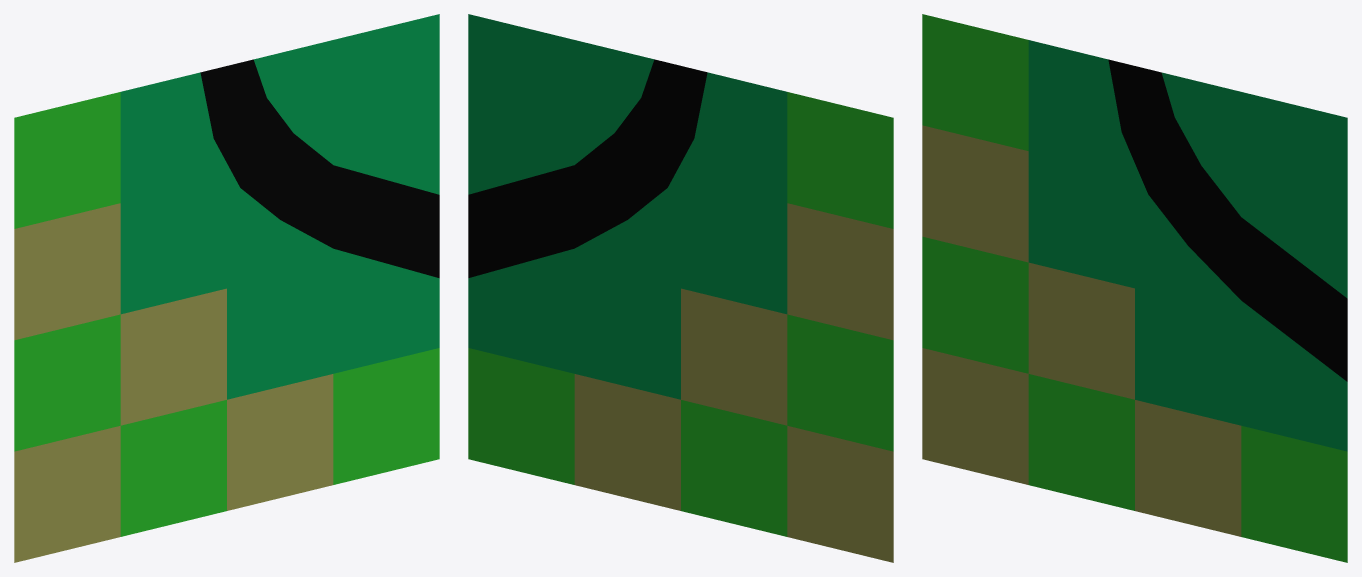
File: tiles3_42.obj
3 renders of one model, left to right at view 1: azimuth 30°, elevation 25°; view 2: azimuth 150°, elevation 25°; view 3: azimuth 330°, elevation 25°, orthographic.
Size of the model in its own units: 40.96 by 40.96 by 0.01.
